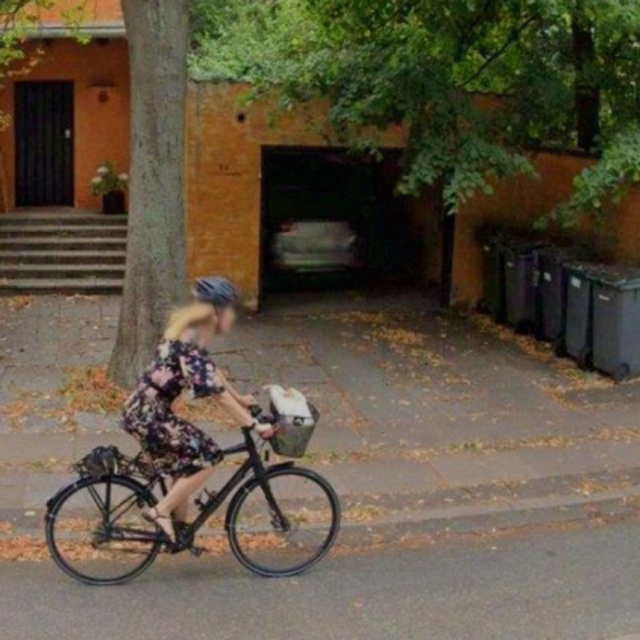bicycle: (31, 370, 373, 607)
